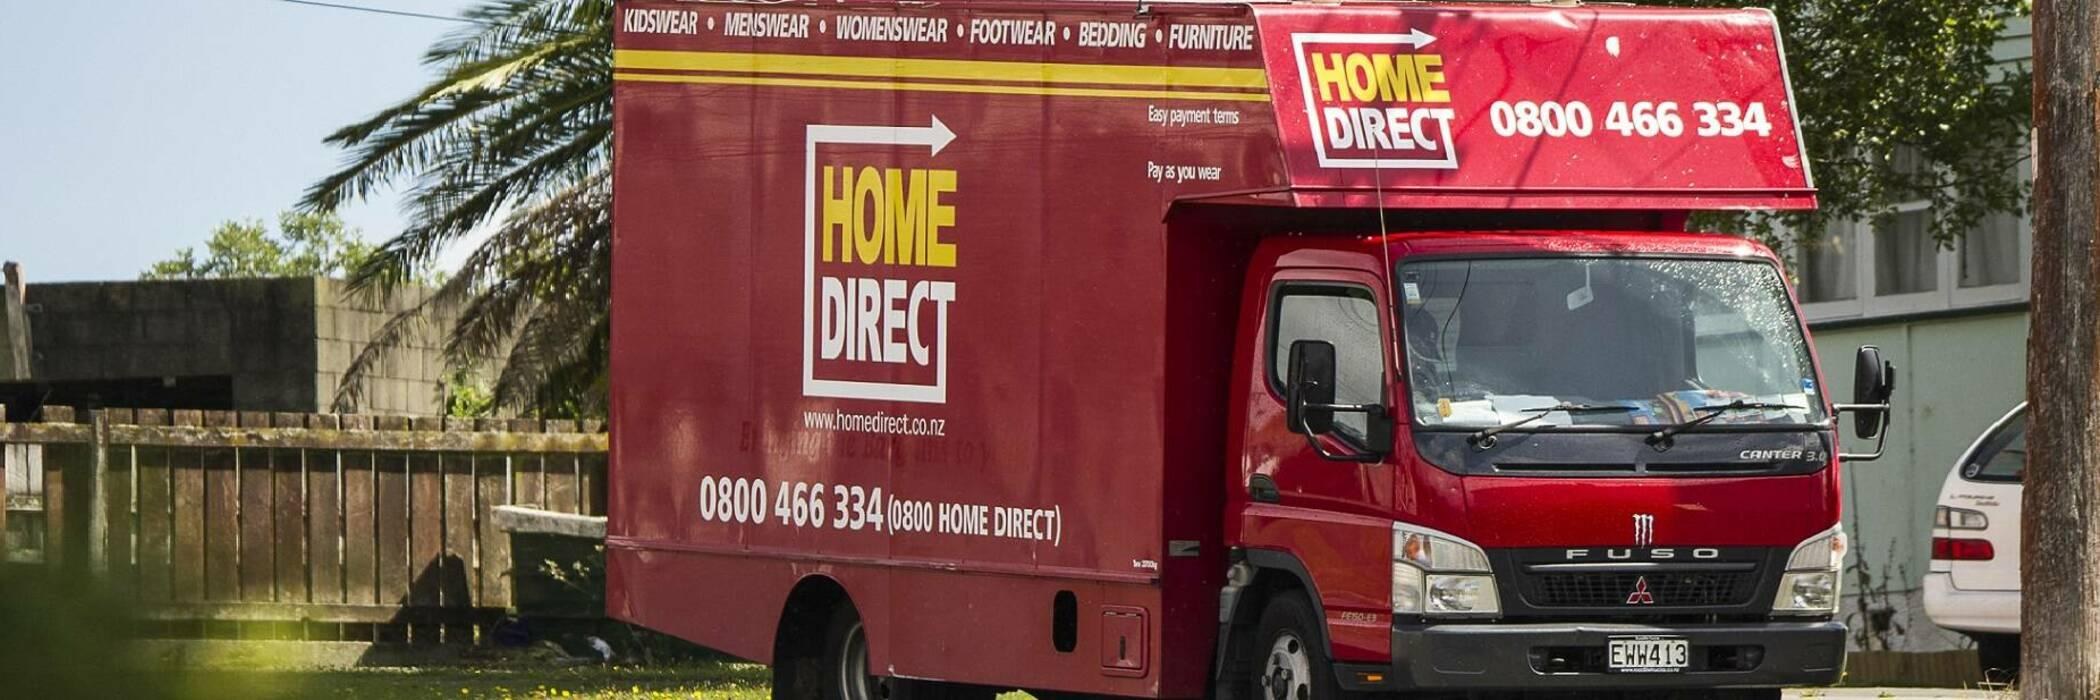truck: (607, 3, 1892, 700)
